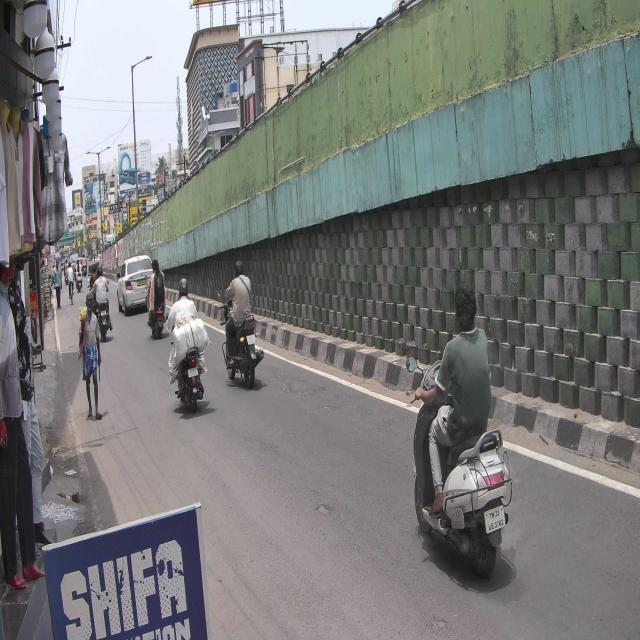single_rider: (408, 284, 512, 575)
